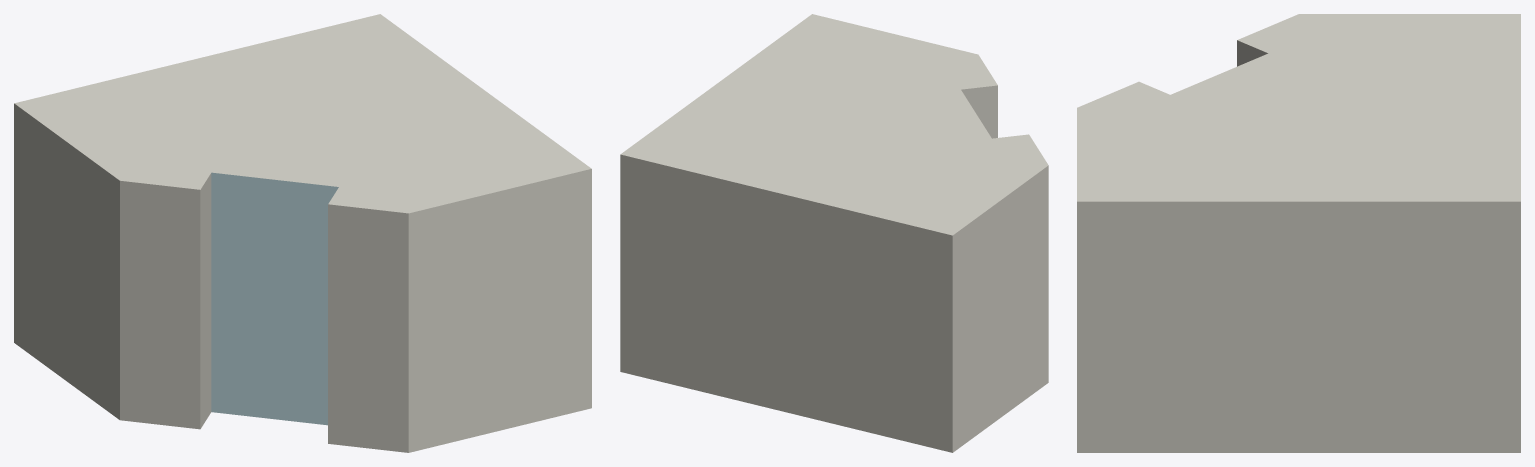
The model's file is building_048.glb.
3 views of the same model, side by side, from view 1: azimuth 30°, elevation 25°; view 2: azimuth 150°, elevation 25°; view 3: azimuth 270°, elevation 25° (orthographic). The views are drawn at different scales.
Visible parts, largest first — view 1: building_048; view 2: building_048; view 3: building_048.
Boxes of the visible parts, x1,y1,x2,y2 form: building_048: (14, 14, 591, 452); building_048: (620, 14, 1048, 452); building_048: (1077, 14, 1520, 452).
Size of the model in its own units: 1 by 0.625 by 1.
